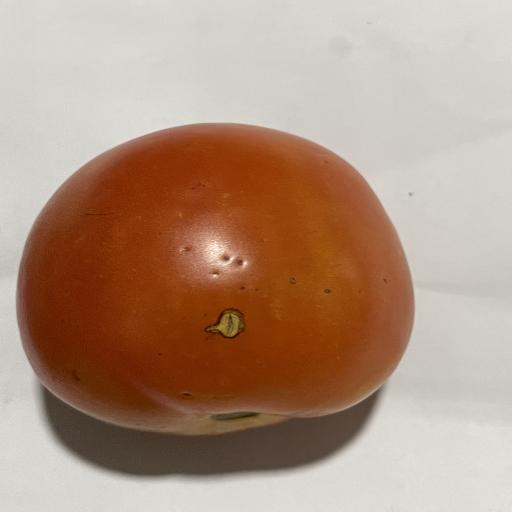ripe: (17, 124, 414, 435)
